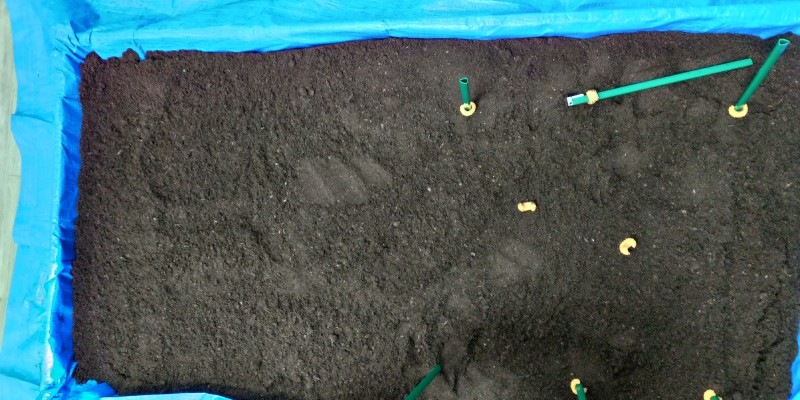eggs: (566, 377, 594, 398), (511, 196, 539, 213), (728, 101, 750, 121), (584, 84, 602, 108), (618, 237, 638, 257), (455, 101, 479, 116), (700, 386, 715, 400)
